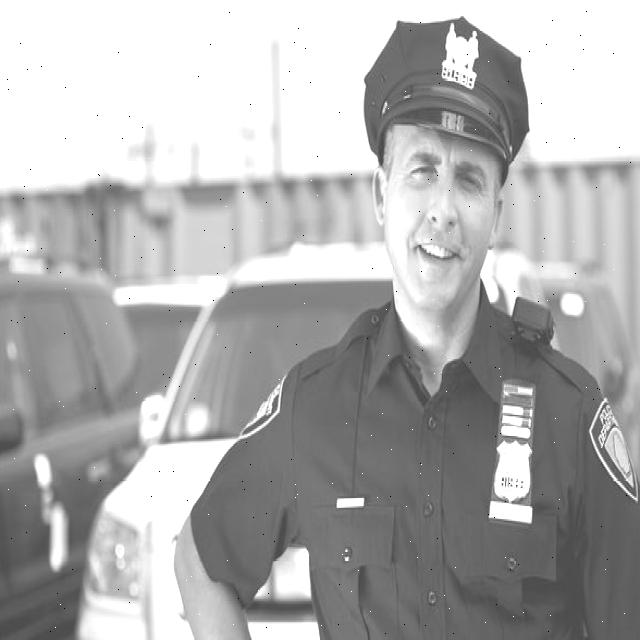police: (198, 3, 640, 640)
